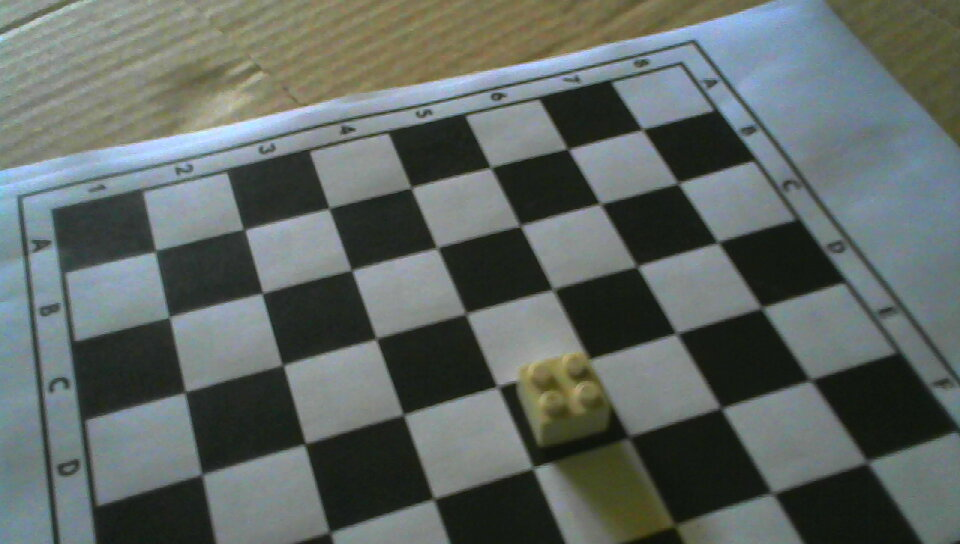wp: (516, 349, 611, 447)
